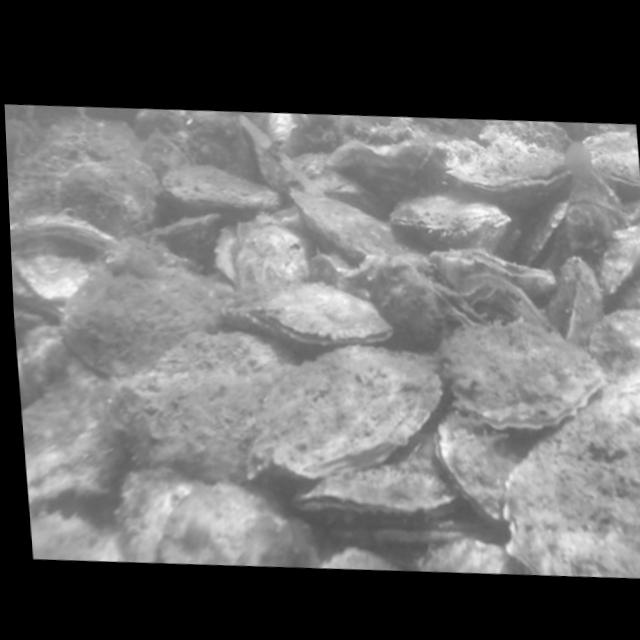Oyster-Closed: (501, 369, 640, 578), (444, 324, 608, 429), (293, 425, 463, 513), (434, 406, 551, 526), (227, 282, 395, 342), (445, 136, 568, 208), (433, 248, 559, 296), (184, 119, 261, 179), (430, 282, 489, 328)
Oyster-Indeterminate: (106, 331, 299, 485), (248, 345, 442, 479), (63, 237, 238, 375), (22, 358, 132, 505), (305, 251, 454, 349), (163, 482, 318, 568), (290, 188, 416, 263), (56, 160, 161, 243), (124, 469, 211, 563), (390, 187, 509, 253), (230, 209, 318, 293), (328, 137, 436, 202), (567, 201, 636, 292), (140, 211, 228, 268), (164, 166, 279, 209), (548, 259, 604, 347), (17, 327, 77, 409), (30, 514, 124, 562), (587, 309, 640, 381), (421, 537, 513, 574), (581, 131, 640, 187), (483, 120, 571, 154), (295, 154, 365, 195), (600, 225, 640, 294), (143, 135, 189, 177), (322, 547, 402, 571)
Oyster-Open: (512, 198, 568, 275), (455, 276, 500, 307)
